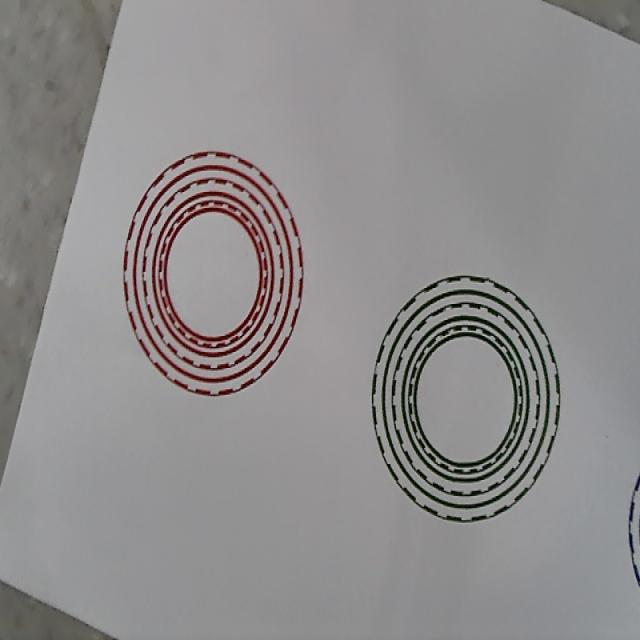g: (370, 275, 561, 524)
red-green-blue: (122, 150, 303, 397)
